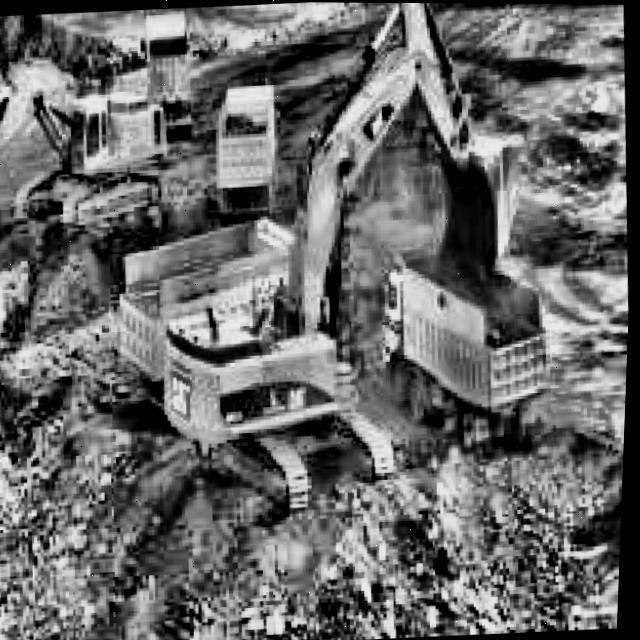dump_truck: (376, 241, 559, 466), (115, 212, 299, 379), (210, 77, 282, 213), (136, 9, 196, 140)
excavator: (137, 1, 545, 527), (0, 44, 184, 350)
